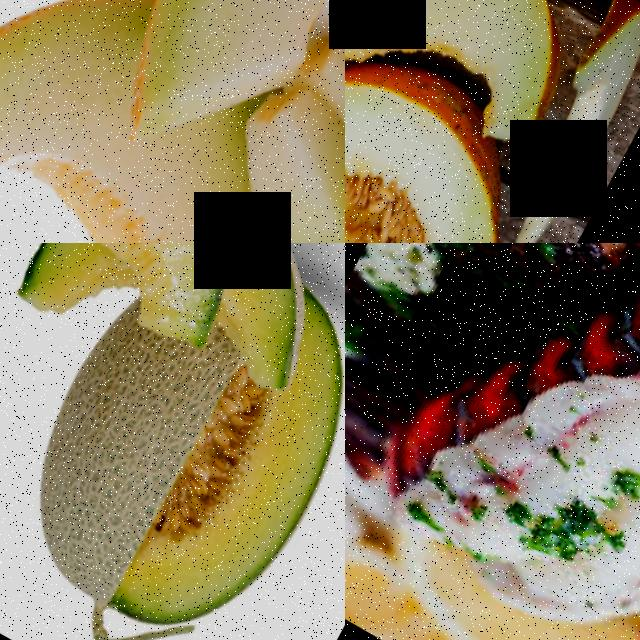lobster tails: (456, 243, 640, 640)
melon: (0, 295, 345, 640), (345, 0, 608, 166), (345, 34, 551, 243), (0, 0, 167, 243), (493, 0, 640, 243), (0, 140, 339, 243), (0, 243, 273, 348)
